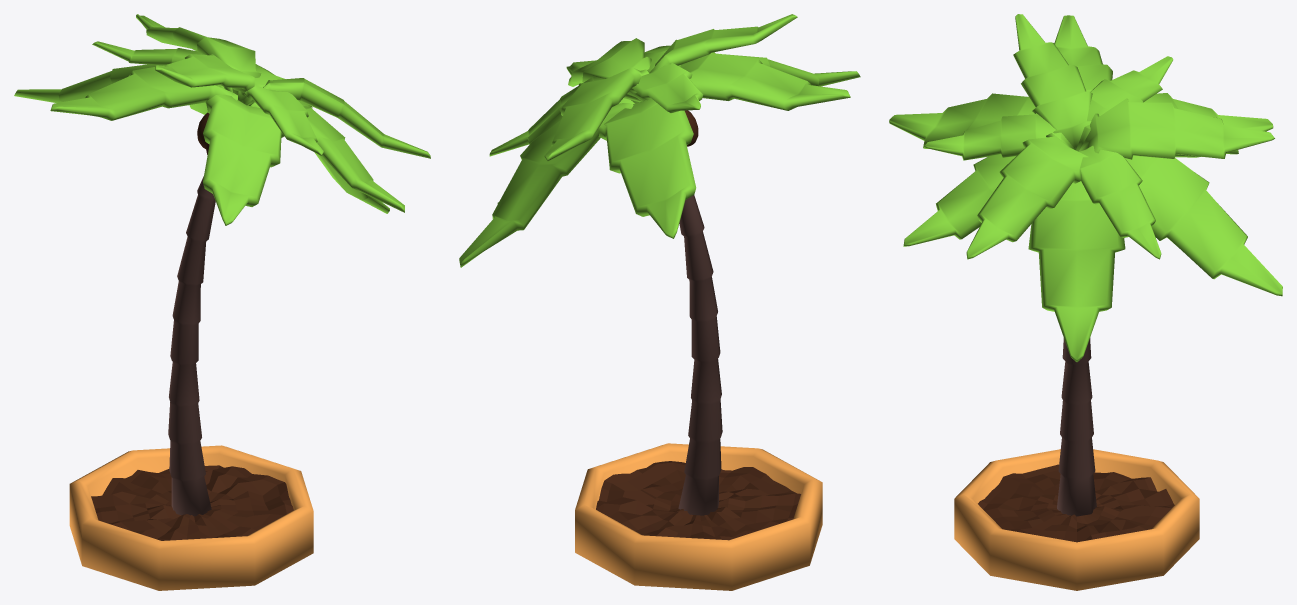
File: palm tree dirt(2).fbx
3 views of the same model, side by side, from view 1: azimuth 30°, elevation 25°; view 2: azimuth 150°, elevation 25°; view 3: azimuth 270°, elevation 25° (orthographic). The views are drawn at different scales.
Visible parts, largest first — view 1: Circle.004, Circle.003, Circle.002, Plane.028, Plane.027, Plane.030, Plane.029, Plane.032, Plane.035, Plane.034, Plane.026, Plane.033 (+1 smaller); view 2: Circle.004, Circle.003, Circle.002, Plane.026, Plane.025, Plane.027, Plane.032, Plane.034, Plane.033, Plane.030, Plane.031, Plane.028; view 3: Circle.004, Plane.024, Circle.003, Plane.025, Plane.032, Plane.030, Plane.034, Circle.002, Plane.031, Plane.029, Plane.028, Plane.035 (+3 smaller).
Part boxes in pixels (left/top/right/bottom): Circle.004: left=69, top=445, right=313, bottom=590; Circle.003: left=91, top=465, right=293, bottom=540; Circle.002: left=168, top=176, right=215, bottom=516; Plane.028: left=203, top=94, right=284, bottom=225; Plane.027: left=50, top=65, right=237, bottom=120; Plane.030: left=249, top=78, right=430, bottom=158; Plane.029: left=251, top=102, right=404, bottom=212; Plane.032: left=136, top=14, right=261, bottom=77; Plane.035: left=238, top=85, right=323, bottom=155; Plane.034: left=155, top=54, right=254, bottom=105; Plane.026: left=14, top=64, right=221, bottom=103; Plane.033: left=92, top=41, right=232, bottom=92; Circle.004: left=575, top=443, right=822, bottom=590; Circle.003: left=596, top=461, right=800, bottom=540; Circle.002: left=678, top=195, right=722, bottom=515; Plane.026: left=598, top=99, right=696, bottom=238; Plane.025: left=459, top=103, right=633, bottom=267; Plane.027: left=682, top=52, right=850, bottom=110; Plane.032: left=544, top=67, right=649, bottom=160; Plane.034: left=649, top=14, right=797, bottom=73; Plane.033: left=629, top=63, right=703, bottom=112; Plane.030: left=566, top=38, right=651, bottom=86; Plane.031: left=489, top=76, right=641, bottom=156; Plane.028: left=680, top=54, right=860, bottom=86; Circle.004: left=954, top=449, right=1199, bottom=590; Plane.024: left=1028, top=181, right=1125, bottom=361; Circle.003: left=978, top=464, right=1174, bottom=542; Plane.025: left=1125, top=155, right=1282, bottom=296; Plane.032: left=1078, top=98, right=1274, bottom=159; Plane.030: left=966, top=133, right=1088, bottom=259; Plane.034: left=1013, top=14, right=1092, bottom=149; Circle.002: left=1057, top=338, right=1096, bottom=516; Plane.031: left=1079, top=145, right=1161, bottom=259; Plane.029: left=903, top=154, right=1015, bottom=246; Plane.028: left=889, top=93, right=1035, bottom=148; Plane.035: left=924, top=113, right=1075, bottom=160.
Size of the model in its own units: 2397 by 3413 by 2462.
